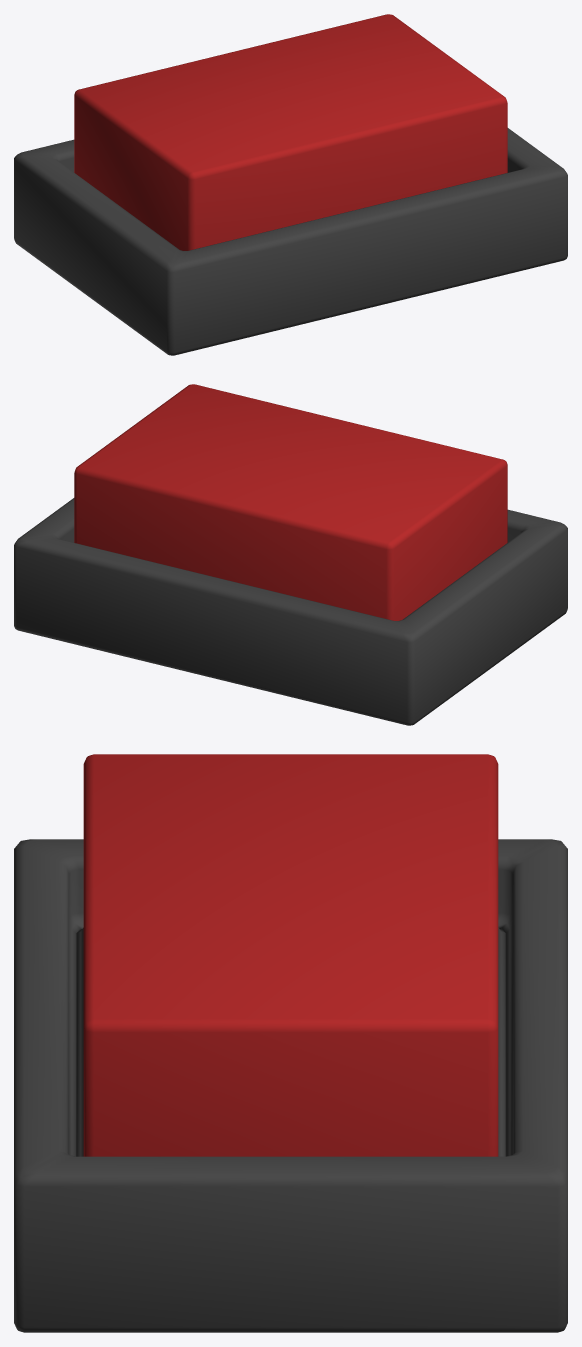
Rendered from EdgeButton.gltf.
3 views of the same model, one above another, from view 1: azimuth 30°, elevation 25°; view 2: azimuth 150°, elevation 25°; view 3: azimuth 270°, elevation 25° (orthographic). The views are drawn at different scales.
Visible parts, largest first — view 1: EdgeButtonTop, EdgeButtonBot; view 2: EdgeButtonTop, EdgeButtonBot; view 3: EdgeButtonTop, EdgeButtonBot.
Boxes of the visible parts, box(x1,y1,x2,y2) form: EdgeButtonTop: box(74, 14, 507, 250); EdgeButtonBot: box(14, 128, 567, 355); EdgeButtonTop: box(74, 384, 507, 620); EdgeButtonBot: box(14, 498, 567, 725); EdgeButtonTop: box(83, 754, 498, 1156); EdgeButtonBot: box(14, 839, 567, 1332).
Size of the model in its own units: 0.1016 by 0.0386 by 0.0695.
